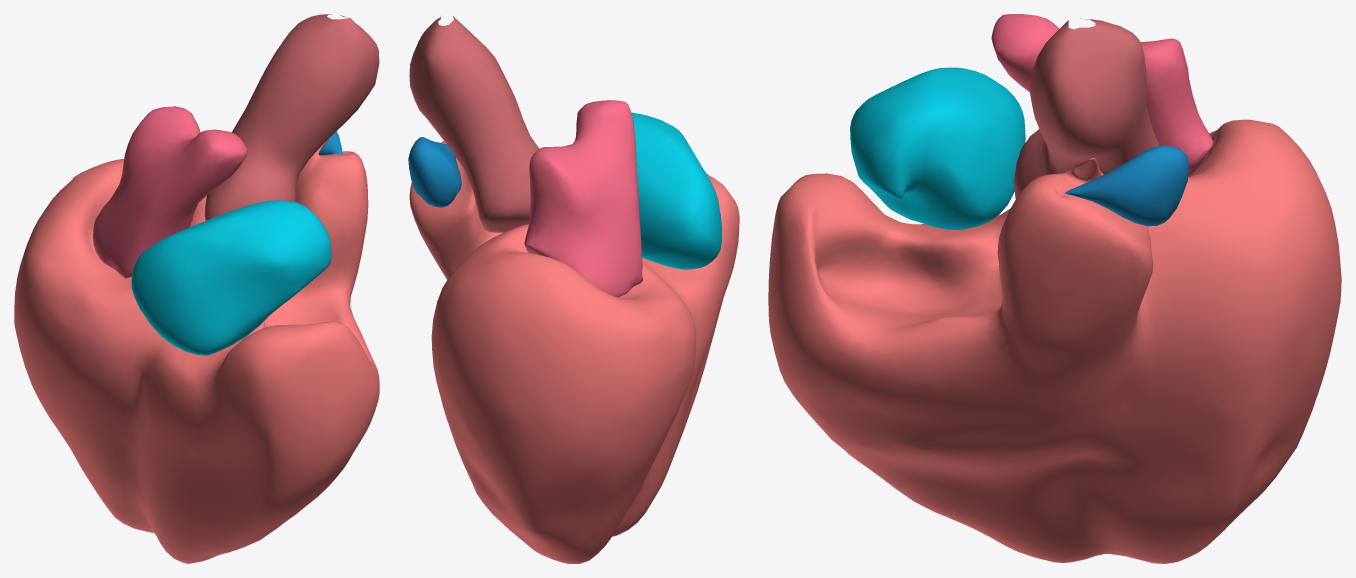
Rendered from frame_65.glb.
The picture shows the model from 3 angles, left to right: view 1: azimuth 30°, elevation 25°; view 2: azimuth 150°, elevation 25°; view 3: azimuth 270°, elevation 25°; orthographic projection. The views are drawn at different scales.
Parts seen in each view (by area): view 1: Renderer Node; view 2: Renderer Node; view 3: Renderer Node.
Part boxes in pixels (x1,y1,x2,y2): Renderer Node: (14, 14, 379, 563); Renderer Node: (408, 16, 739, 563); Renderer Node: (768, 14, 1341, 563).
Bounding box in the file's own units: 102 × 159 × 129.
